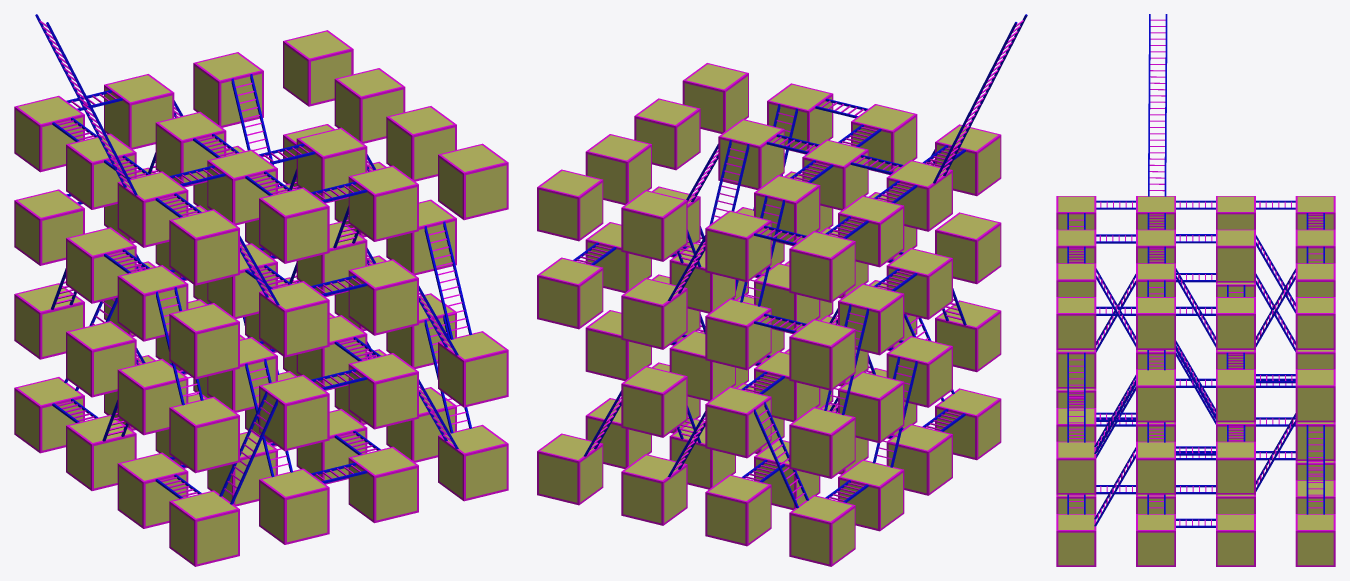
The model's file is demo_0321.fbx.
The picture shows the model from 3 angles, left to right: view 1: azimuth 30°, elevation 25°; view 2: azimuth 150°, elevation 25°; view 3: azimuth 270°, elevation 25°; orthographic projection. The views are drawn at different scales.
Parts seen in each view (by area): view 1: mian, xian, tiziA, tiziB; view 2: mian, xian, tiziA, tiziB; view 3: mian, xian, tiziA, tiziB.
Boxes of the visible parts, bbox=[...] form: mian: bbox=[15, 31, 506, 564]; xian: bbox=[14, 30, 508, 566]; tiziA: bbox=[35, 14, 472, 504]; tiziB: bbox=[39, 20, 467, 496]; mian: bbox=[539, 64, 1000, 564]; xian: bbox=[537, 63, 1001, 566]; tiziA: bbox=[573, 14, 1027, 508]; tiziB: bbox=[576, 20, 1023, 501]; mian: bbox=[1058, 196, 1333, 565]; xian: bbox=[1056, 196, 1335, 566]; tiziA: bbox=[1067, 14, 1324, 527]; tiziB: bbox=[1069, 19, 1323, 525].
Bounding box in the file's own units: 35.88 × 44.52 × 28.
